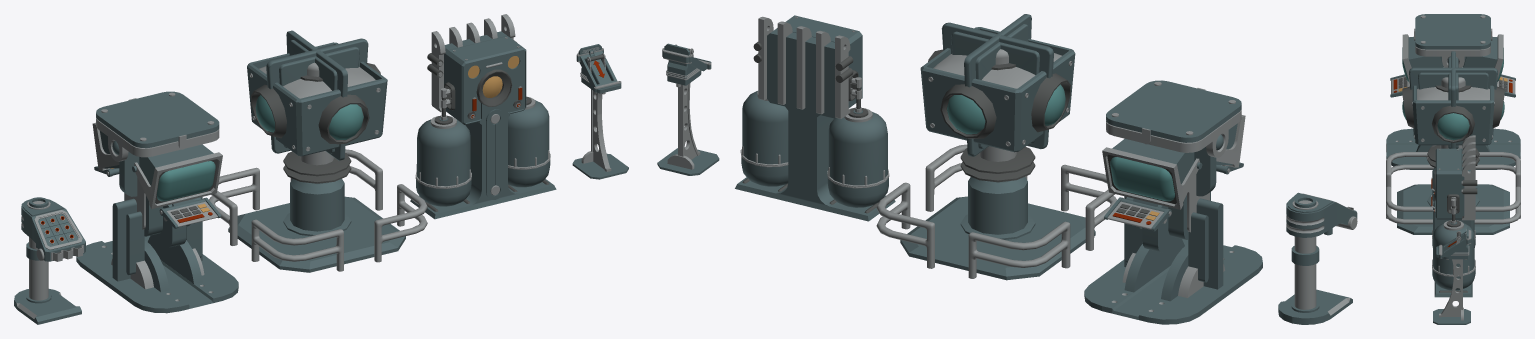
File: XYZ-DP-HomeWork-04.fbx
3 renders of one model, left to right at view 1: azimuth 30°, elevation 25°; view 2: azimuth 150°, elevation 25°; view 3: azimuth 270°, elevation 25°, orthographic. The views are drawn at different scales.
Visible parts, largest first — view 1: polySurface327, polySurface327.001, polySurface327.003, polySurface327.002, polySurface327.004; view 2: polySurface327, polySurface327.001, polySurface327.003, polySurface327.002, polySurface327.004; view 3: polySurface327, polySurface327.001, polySurface327.003, polySurface327.004.
Boxes of the visible parts, bbox=[...] form: polySurface327: bbox=[209, 30, 427, 272]; polySurface327.001: bbox=[76, 91, 238, 313]; polySurface327.003: bbox=[410, 14, 556, 219]; polySurface327.002: bbox=[14, 197, 85, 324]; polySurface327.004: bbox=[572, 44, 628, 179]; polySurface327: bbox=[876, 14, 1116, 280]; polySurface327.001: bbox=[1084, 80, 1262, 324]; polySurface327.003: bbox=[735, 15, 895, 221]; polySurface327.002: bbox=[1278, 192, 1357, 324]; polySurface327.004: bbox=[657, 43, 719, 175]; polySurface327: bbox=[1386, 51, 1520, 234]; polySurface327.001: bbox=[1386, 14, 1520, 169]; polySurface327.003: bbox=[1431, 135, 1477, 297]; polySurface327.004: bbox=[1433, 227, 1471, 324].
Bounding box in the file's own units: 1600 × 471 × 402.
